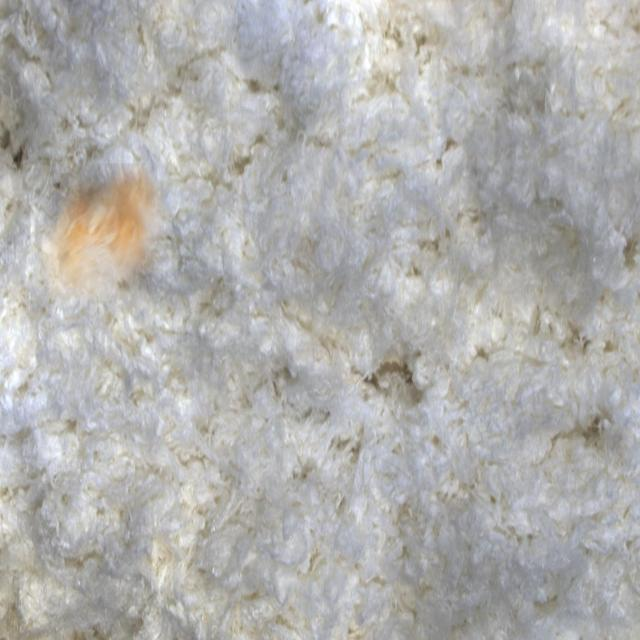dust: (35, 163, 164, 301)
